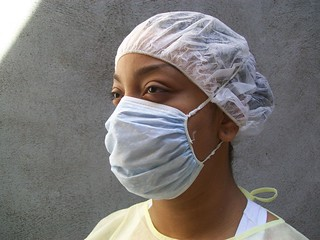surgical: (99, 93, 208, 202)
